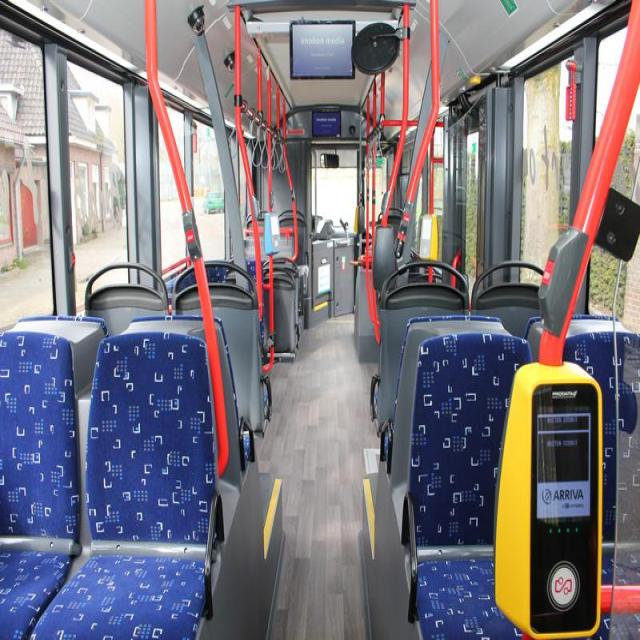empty-seat-frontal: (31, 330, 221, 640)
